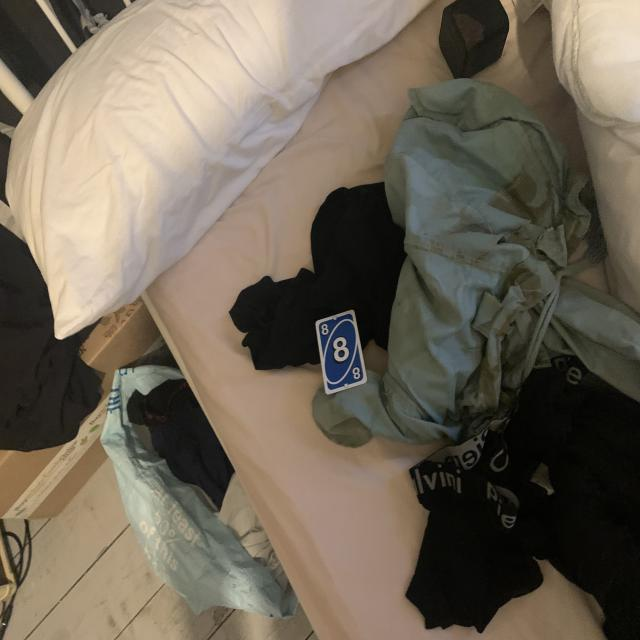lblue-8: (319, 322, 331, 338)
